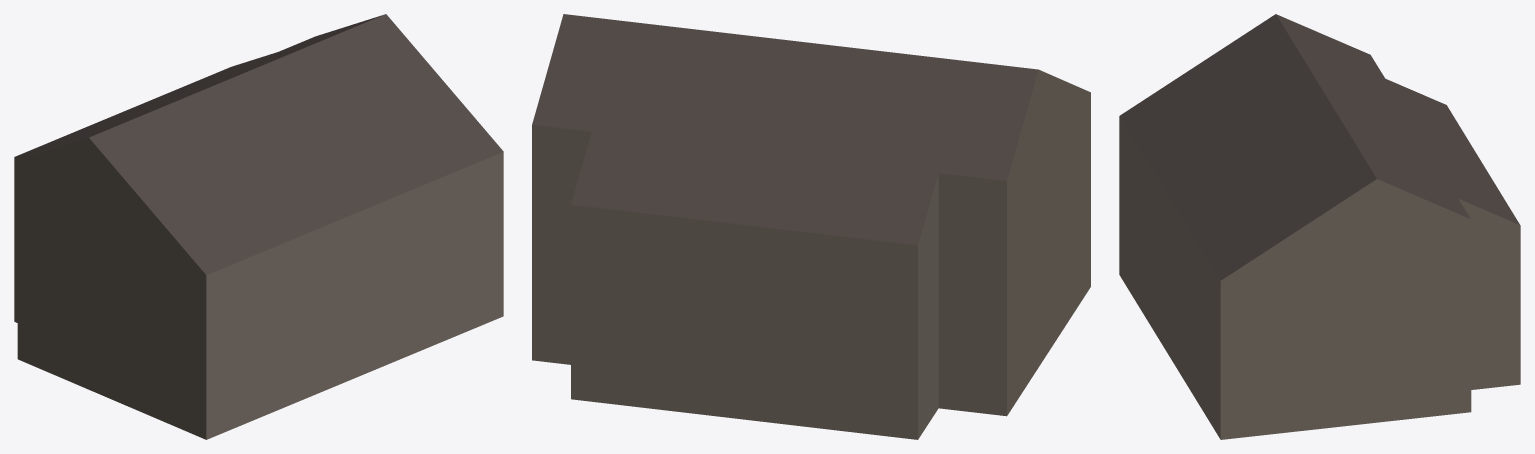
The picture shows the model from 3 angles, left to right: view 1: azimuth 30°, elevation 25°; view 2: azimuth 150°, elevation 25°; view 3: azimuth 270°, elevation 25°; orthographic projection. The views are drawn at different scales.
Visible parts, largest first — view 1: HP-w1367351002; view 2: HP-w1367351002; view 3: HP-w1367351002.
Boxes of the visible parts, x1,y1,x2,y2 form: HP-w1367351002: (14,14,503,439); HP-w1367351002: (532,14,1090,439); HP-w1367351002: (1119,14,1520,439).
Bounding box in the file's own units: 23.38 × 13.78 × 20.56.
